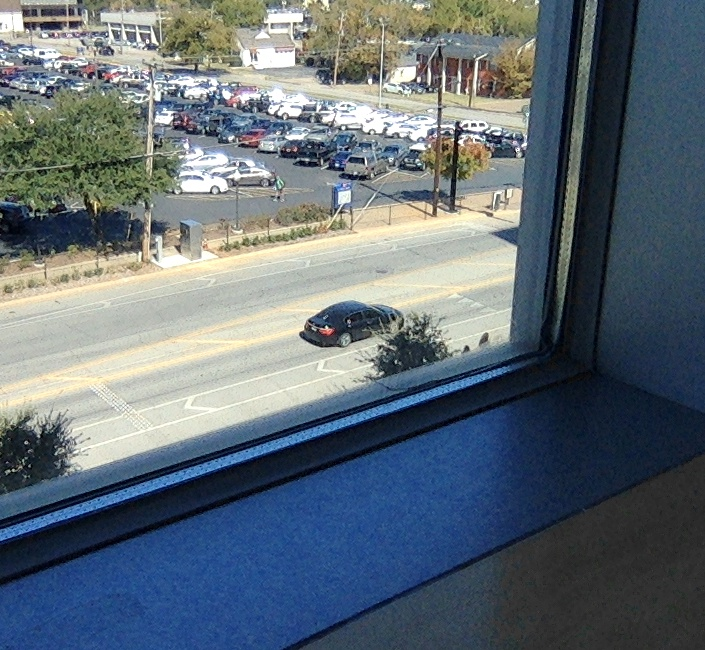car: (300, 300, 405, 350)
